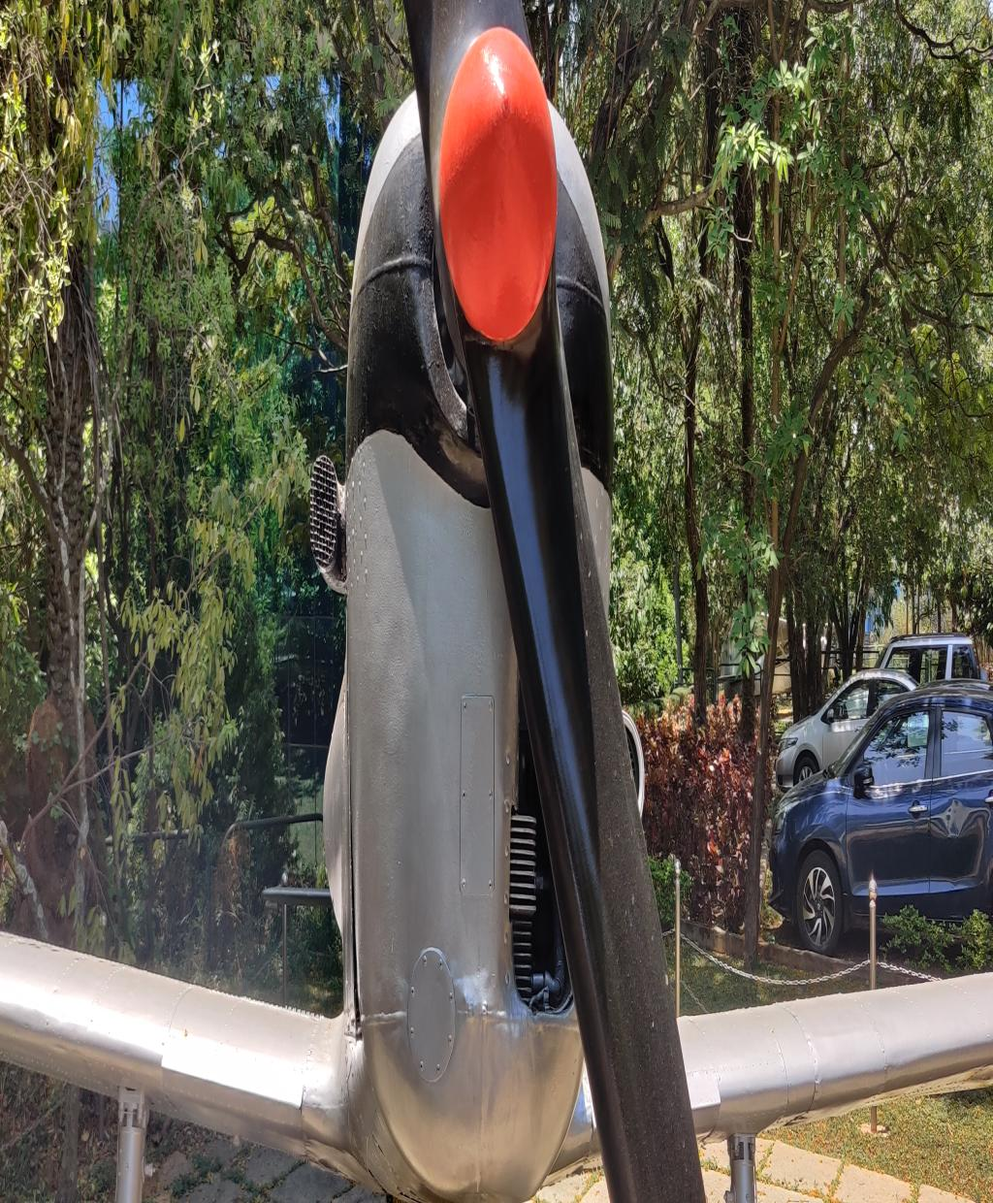crack: (291, 1073, 313, 1131)
dent: (458, 943, 500, 1062)
